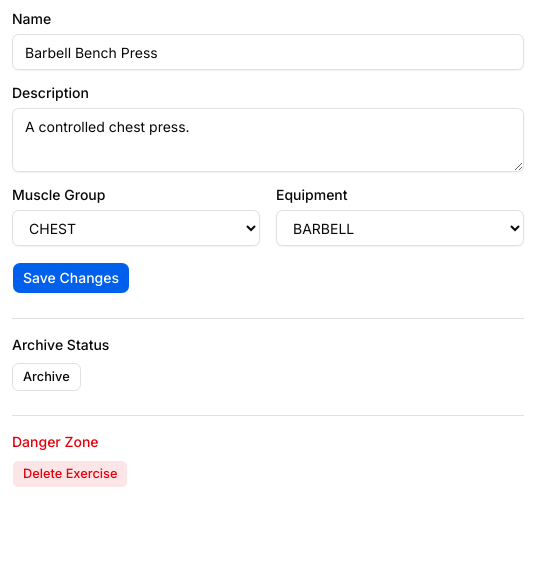
Test: EditExerciseForm › editExerciseForm_nameTooShort_showsOnlyNameErrorAndDoesNotCallUpdate
This screenshot has width=544, height=586.
Replace the text in the field labelled "Name" with "Bench" at {"x": 268, "y": 52}, box [12,34,524,70]
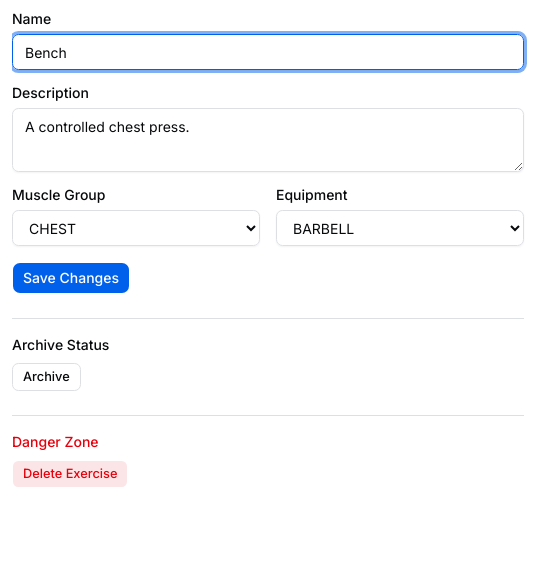
Click the button "Save Changes" at {"x": 71, "y": 278}, box [12,262,130,294]
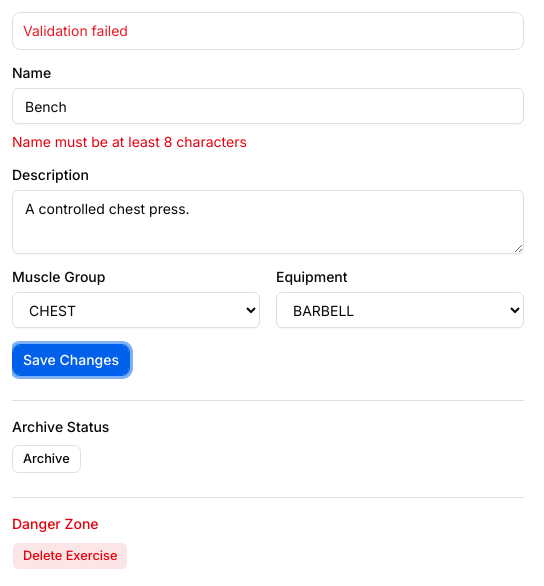
expect the text "Validation failed" is shown: met, box [23,22,128,39]
expect the text "Name must be at least 8 characters" is shown: met, box [12,133,247,150]
